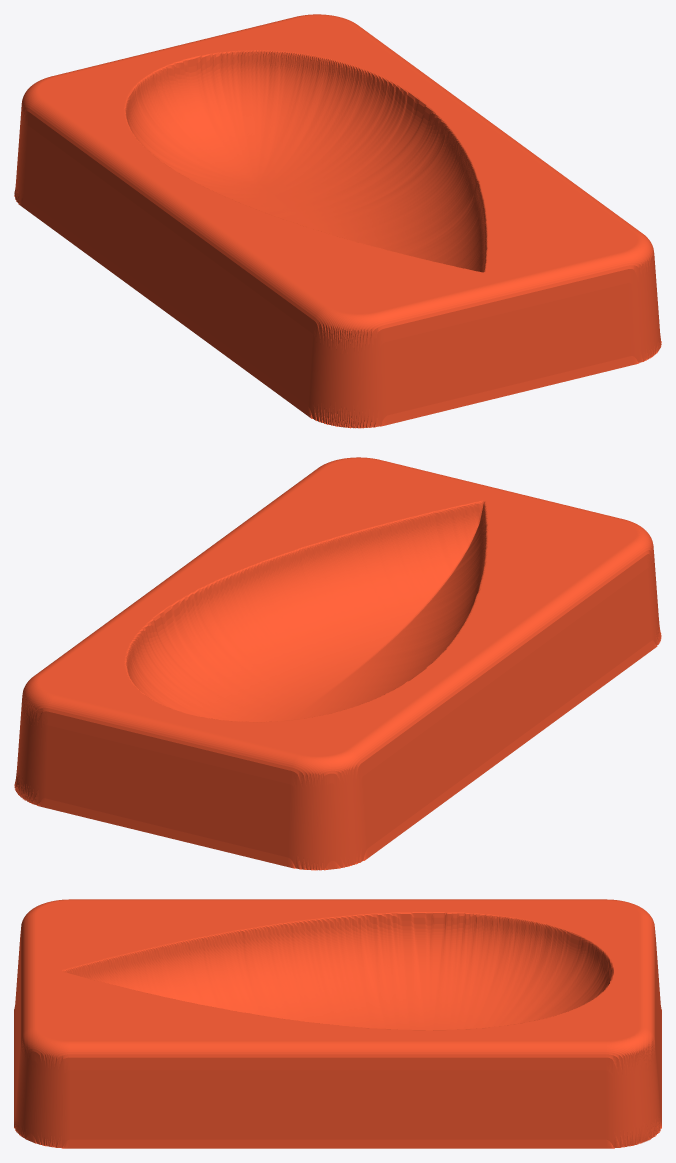
The model's file is mold.glb.
The picture shows the model from 3 angles, top to bottom: view 1: azimuth 30°, elevation 25°; view 2: azimuth 150°, elevation 25°; view 3: azimuth 270°, elevation 25°; orthographic projection. The views are drawn at different scales.
Visible parts, largest first — view 1: geometry_0; view 2: geometry_0; view 3: geometry_0.
Part boxes in pixels (box(x1,y1,x2,y2)): geometry_0: box(14, 14, 661, 428); geometry_0: box(14, 457, 661, 870); geometry_0: box(14, 899, 661, 1148).
Size of the model in its own units: 0.061 by 0.0175 by 0.105.
